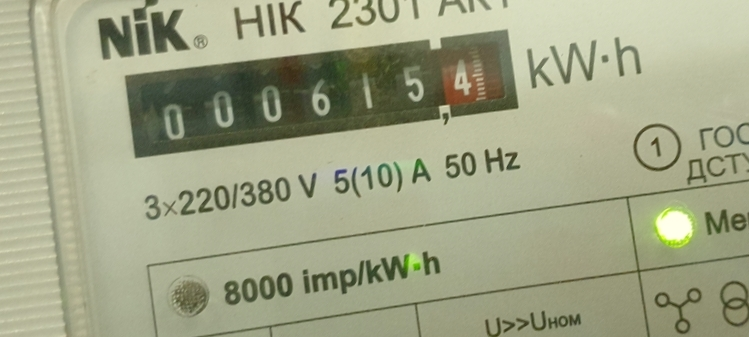0: (159, 99, 188, 143), (257, 82, 286, 126), (210, 88, 237, 130)
1: (359, 69, 376, 112)
4: (450, 56, 473, 98)
5: (401, 62, 428, 106)
6: (306, 76, 334, 119)
screen: (109, 17, 534, 172)
